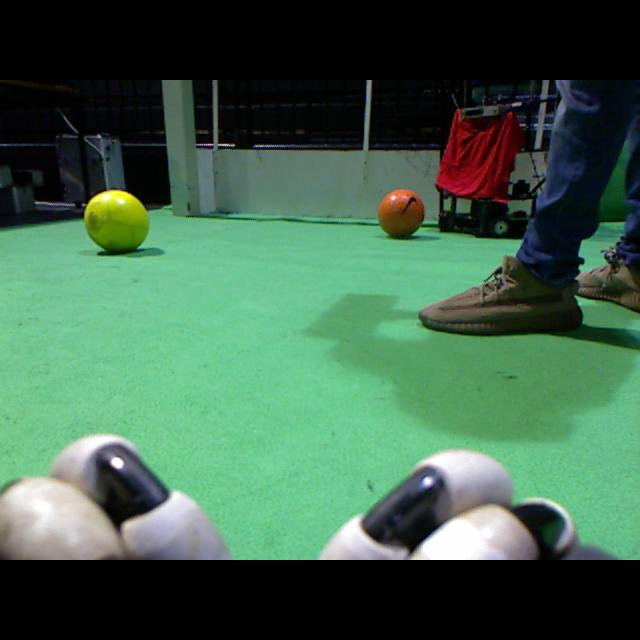ball: (84, 190, 150, 252), (378, 190, 424, 238)
goal: (162, 80, 191, 217)
